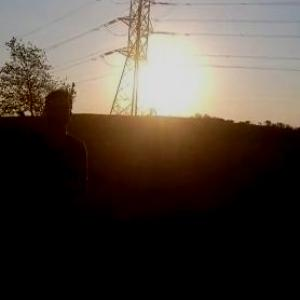follow: (6, 84, 92, 299)
